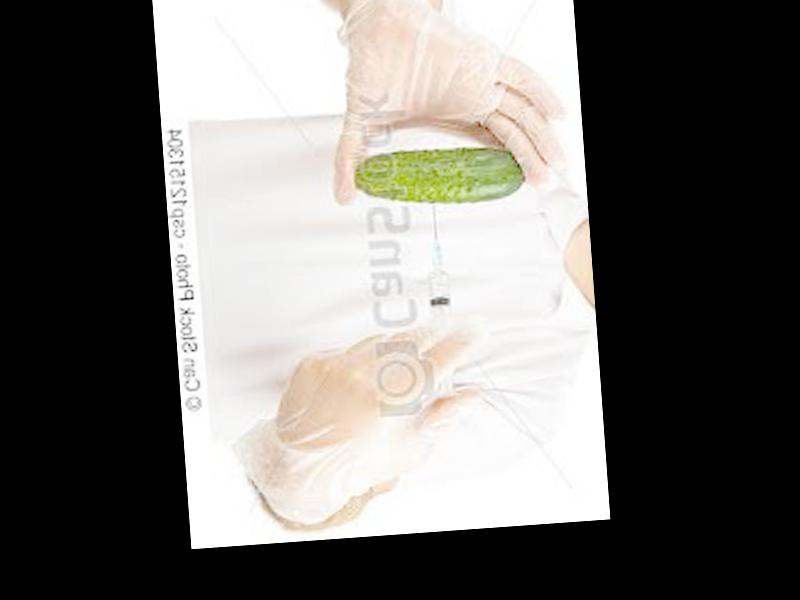Cucumber: (349, 140, 526, 208)
